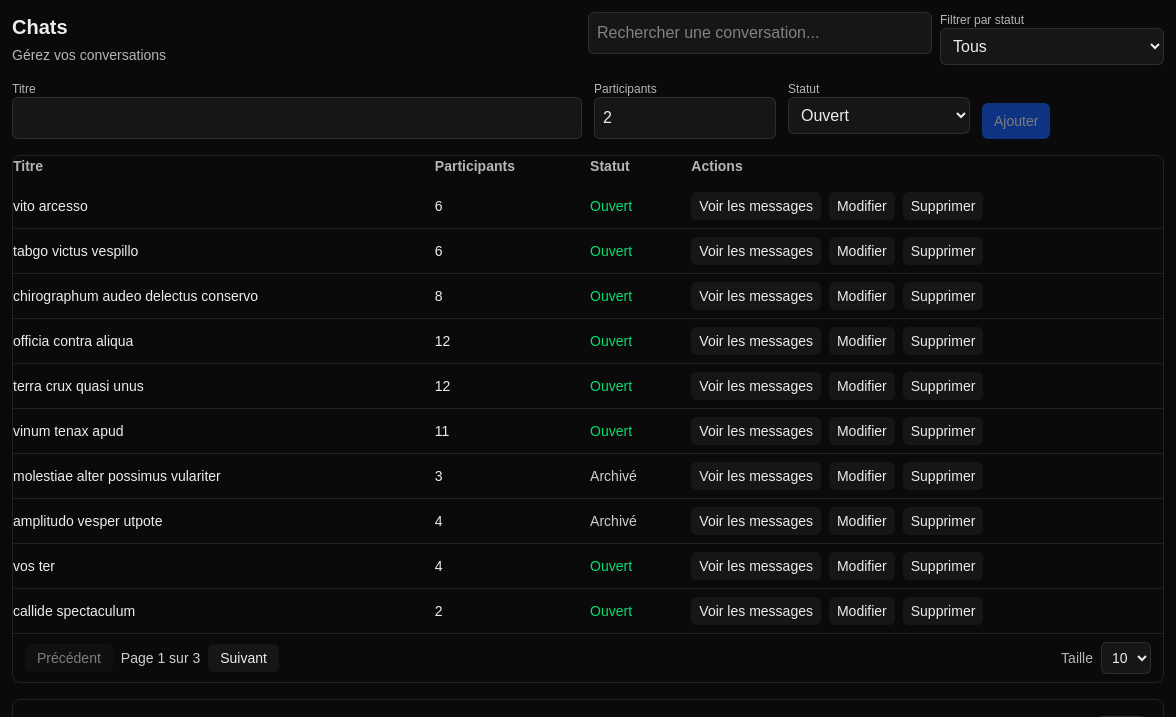
Scenario: ChatsPage › création: ajoute une ligne et annonce ARIA
The width and height of the screenshot is (1176, 717).
// Saisir titre, participants, statut puis soumettre
Step 1. Type "Thread Test" into the field labelled "Titre" → (297, 118), box left=12, top=97, right=582, bottom=139
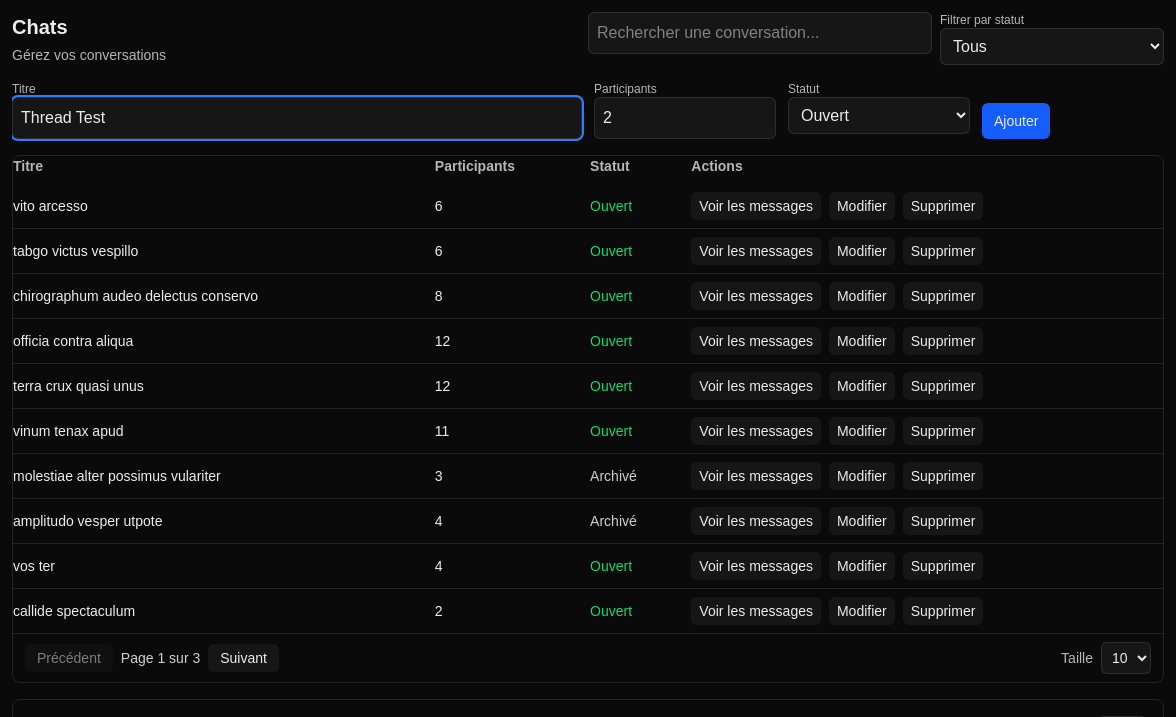
Step 2. Replace the text in the number field labelled "Participants" with "3" → (685, 118), box left=594, top=97, right=776, bottom=139
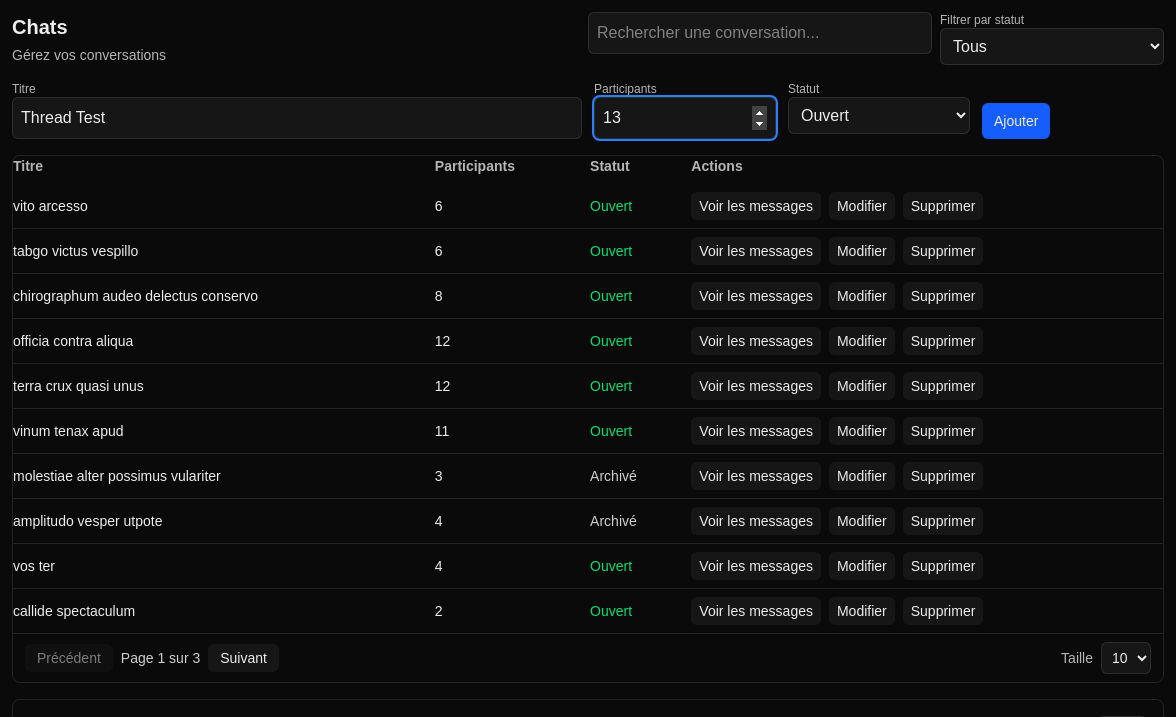
// Laisser le statut par défaut (Ouvert)
Step 3. Click the button "Ajouter" → (1016, 121), box left=982, top=103, right=1050, bottom=139
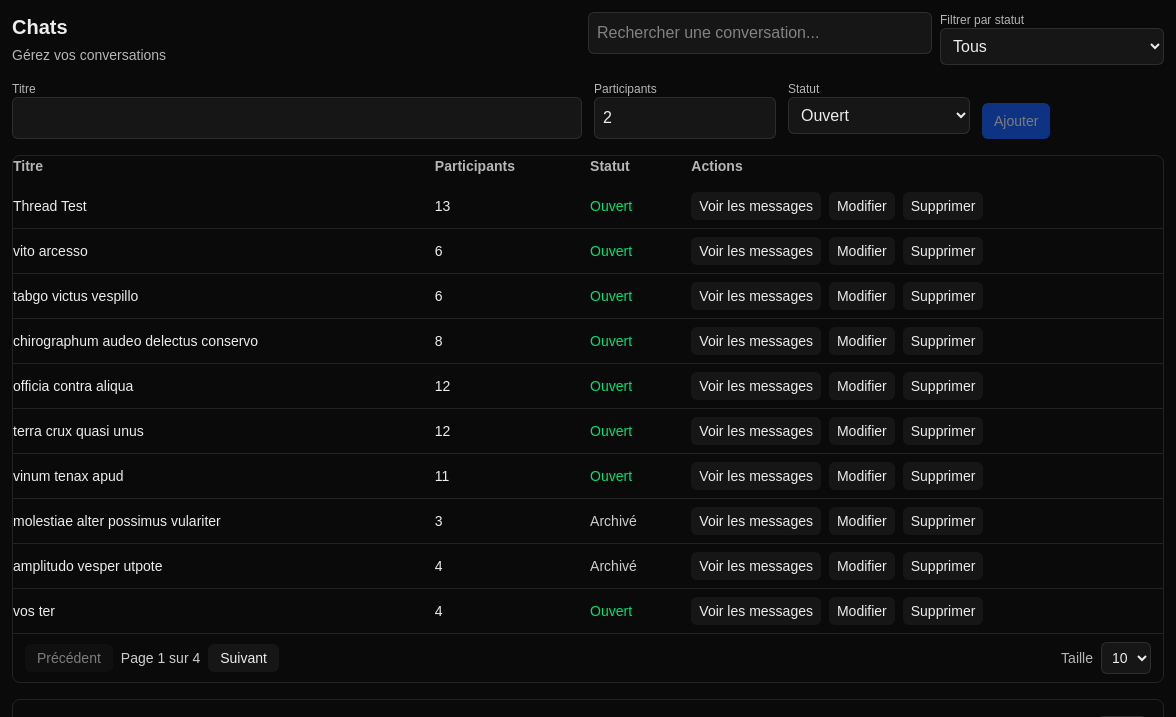
Now the text "Thread Test" is shown, box left=13, top=198, right=87, bottom=214
